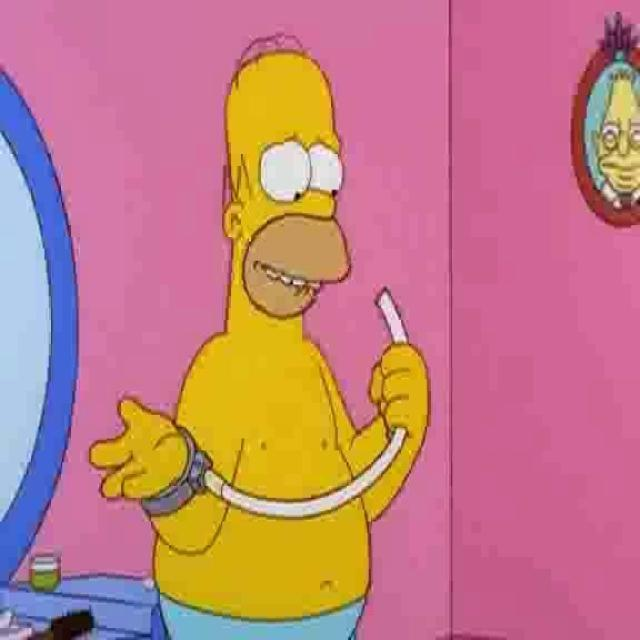Homer Simpson: (223, 27, 355, 340)
